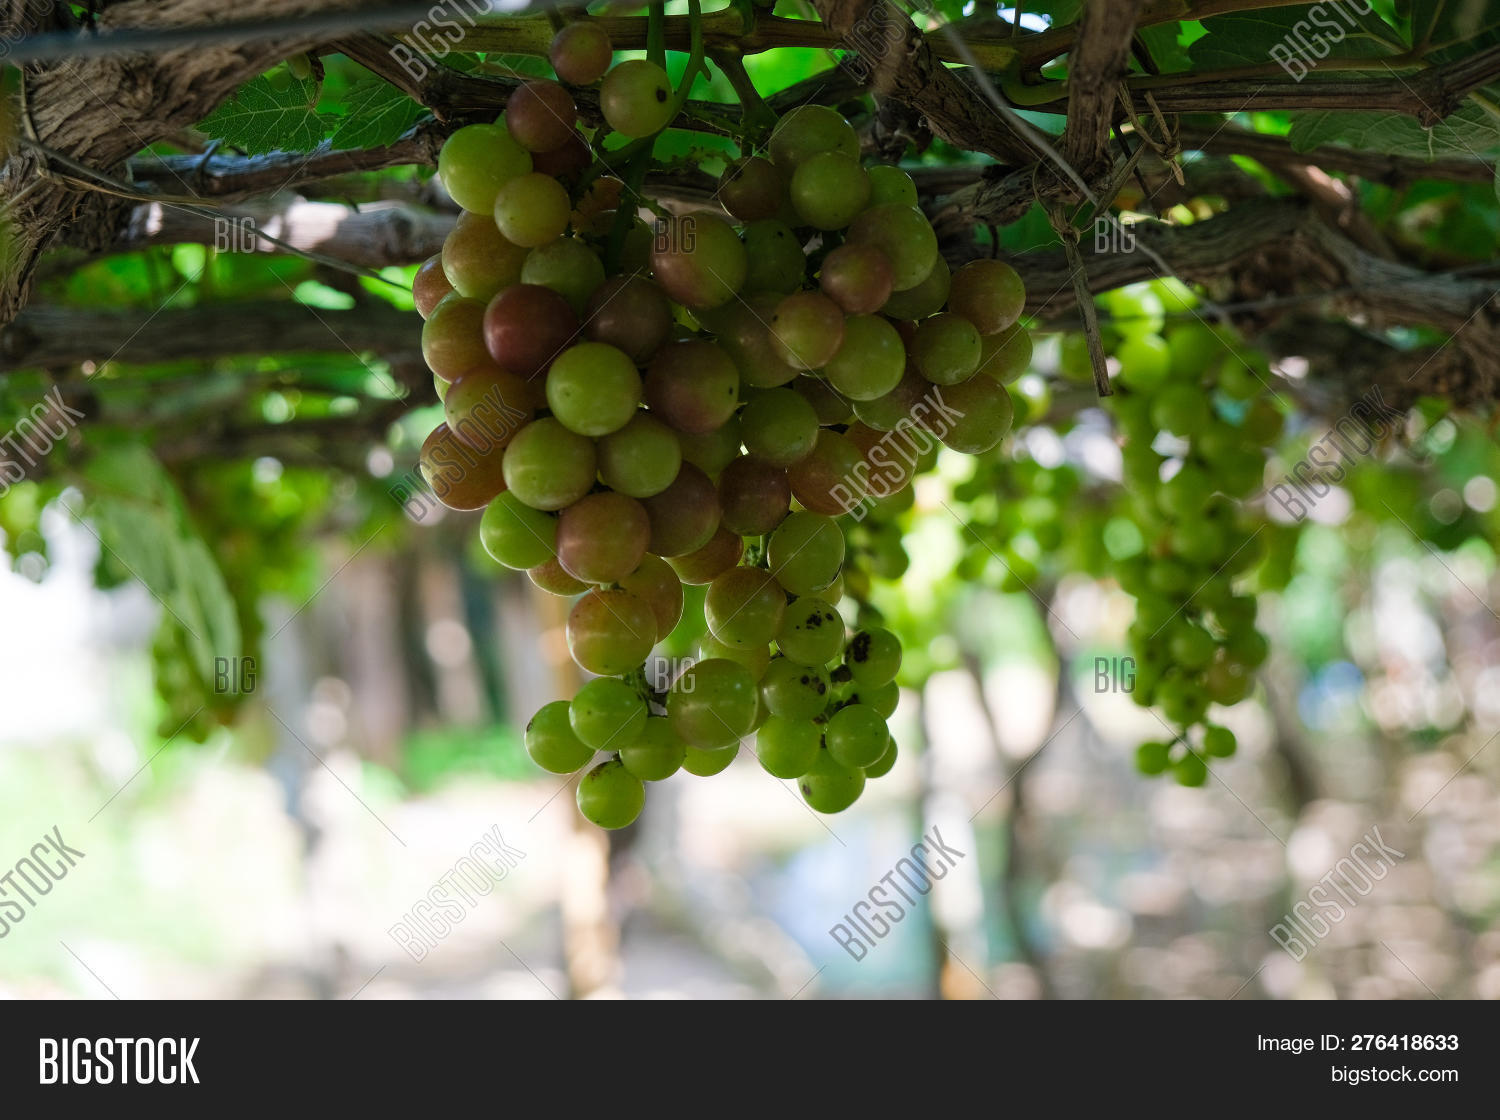grapes: (418, 96, 1031, 835), (1101, 273, 1304, 815)
